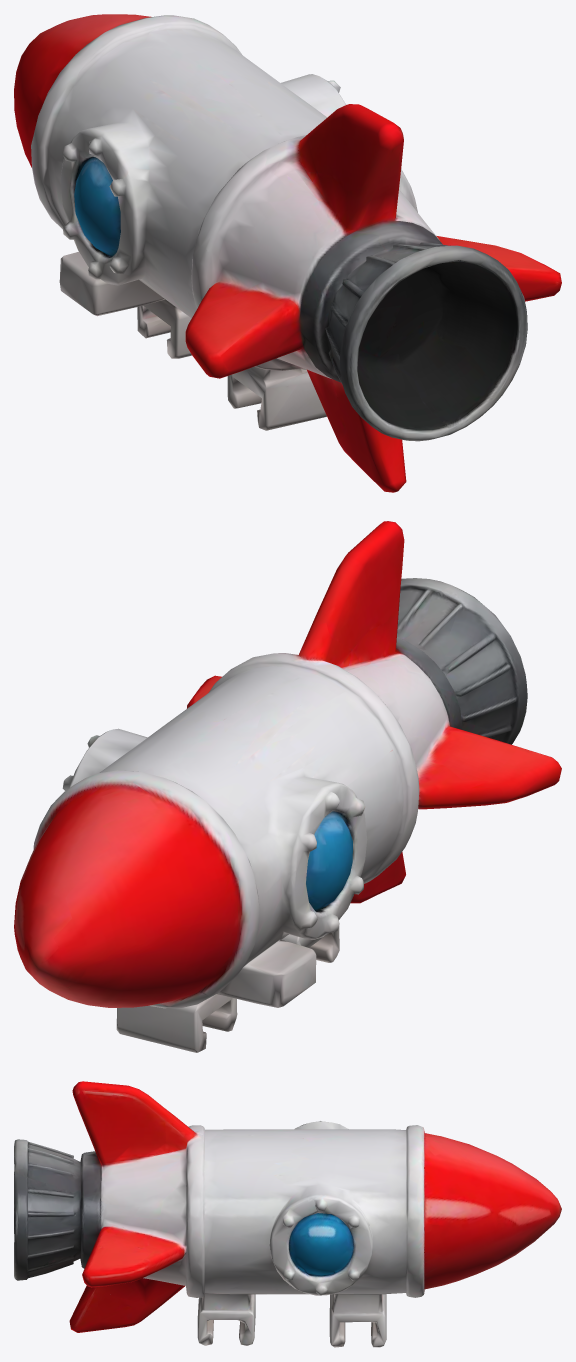
The model's file is rocket.glb.
3 renders of one model, top to bottom at view 1: azimuth 30°, elevation 25°; view 2: azimuth 150°, elevation 25°; view 3: azimuth 270°, elevation 25°, orthographic. The views are drawn at different scales.
Parts seen in each view (by area): view 1: tripo_node_b67f84be-e586-4684-8e59-f457dbdf8a2d; view 2: tripo_node_b67f84be-e586-4684-8e59-f457dbdf8a2d; view 3: tripo_node_b67f84be-e586-4684-8e59-f457dbdf8a2d.
Part boxes in pixels (x1,y1,x2,y2): tripo_node_b67f84be-e586-4684-8e59-f457dbdf8a2d: [14, 14, 561, 492]; tripo_node_b67f84be-e586-4684-8e59-f457dbdf8a2d: [14, 521, 561, 1052]; tripo_node_b67f84be-e586-4684-8e59-f457dbdf8a2d: [14, 1081, 561, 1347].
Bounding box in the file's own units: 0.5118 × 0.5023 × 1.
1 material, 1 textured.
